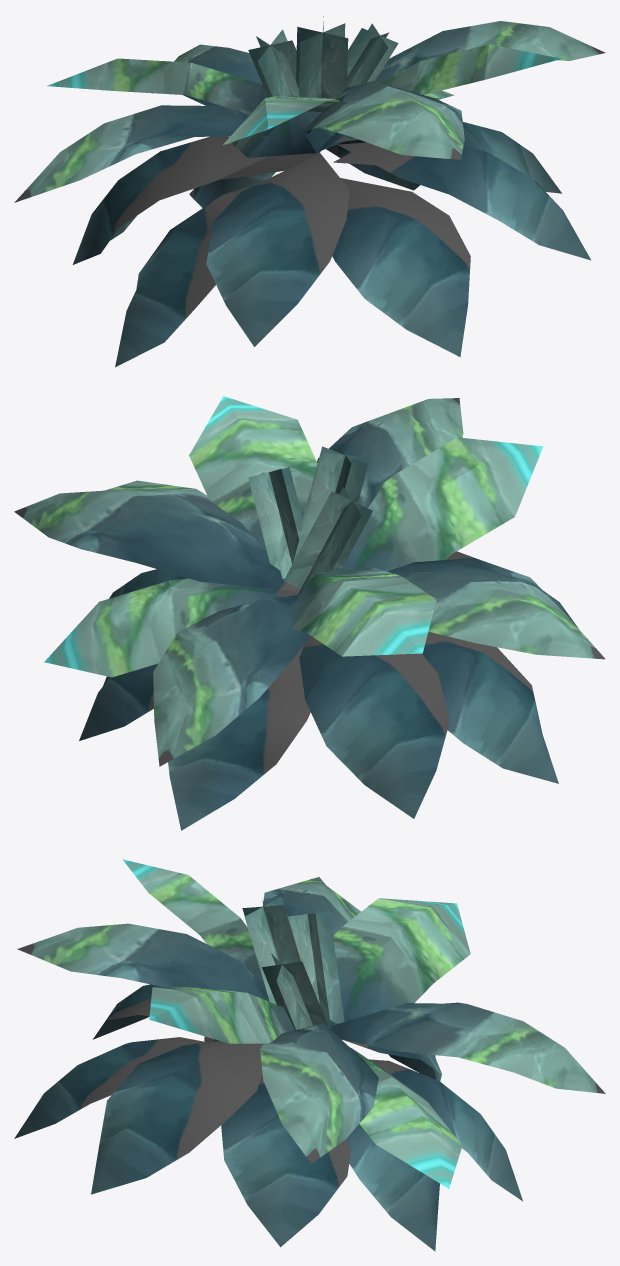
The model's file is Beach_tree_02.fbx.
3 views of the same model, one above another, from view 1: azimuth 30°, elevation 25°; view 2: azimuth 150°, elevation 25°; view 3: azimuth 270°, elevation 25° (orthographic). The views are drawn at different scales.
Parts seen in each view (by area): view 1: Beach_tree_02; view 2: Beach_tree_02; view 3: Beach_tree_02.
Part boxes in pixels (box(x1,y1,x2,y2)): Beach_tree_02: box(14, 16, 605, 367); Beach_tree_02: box(14, 396, 605, 830); Beach_tree_02: box(14, 859, 605, 1251).
Bounding box in the file's own units: 261 × 124 × 232.
